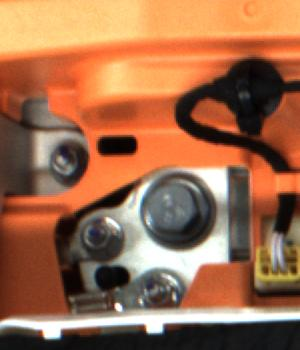screw_s: (73, 211, 126, 257), (136, 274, 180, 310), (49, 141, 84, 184)
